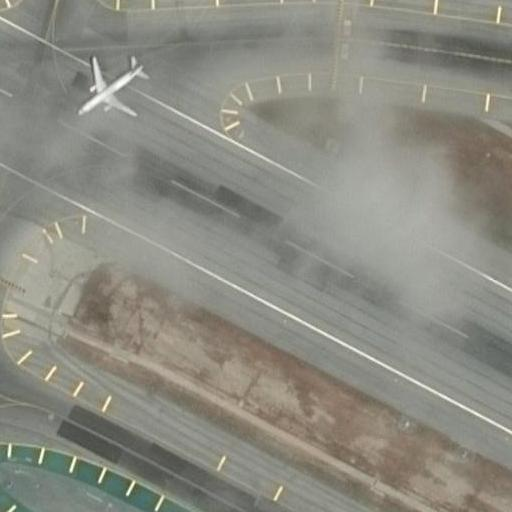Aircraft: (67, 54, 153, 123)
